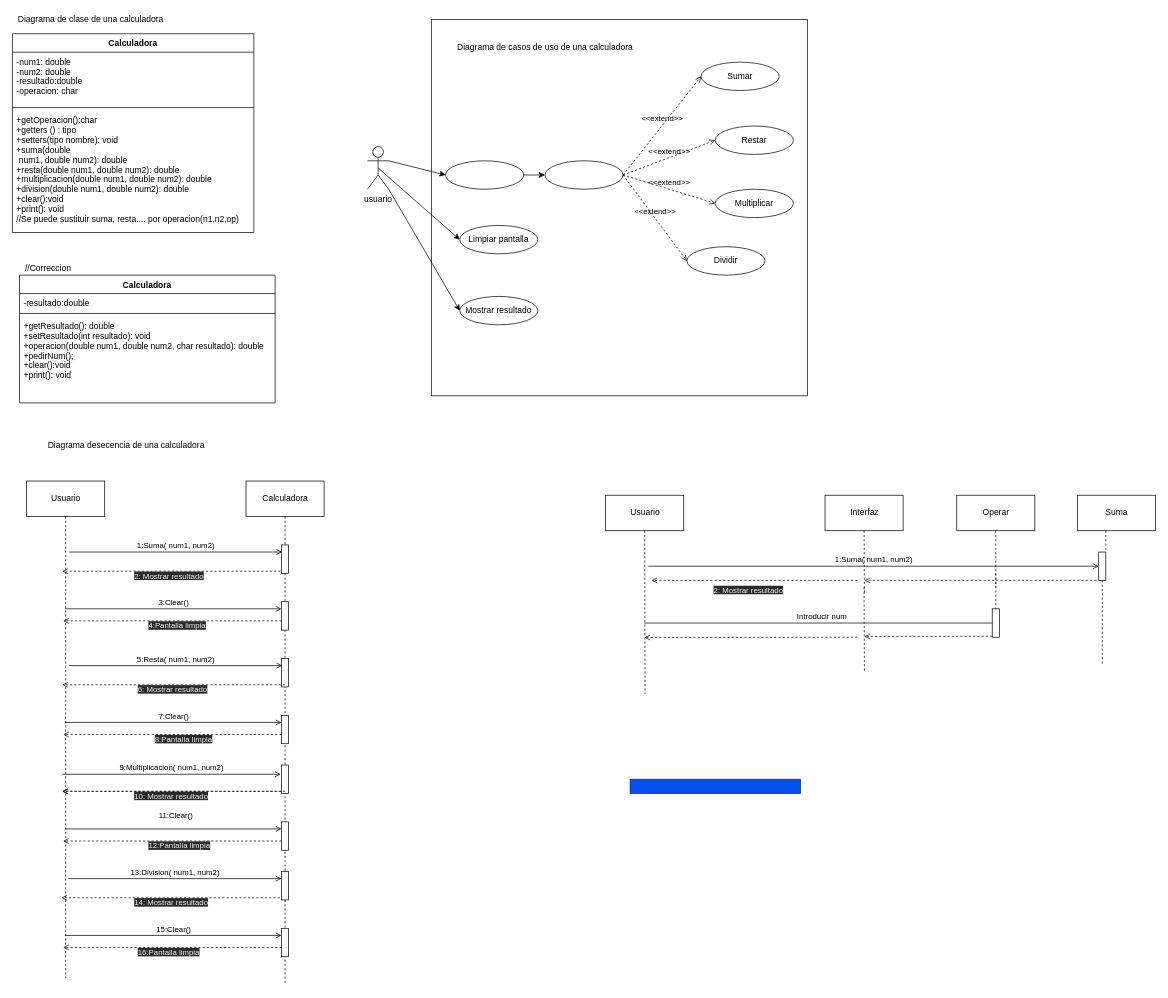
This 1168x998 diagram has some shape labels left out. The shapes that lost their labels are listed below. From the top down, each one's box as (x1, y1, x2, y2) in pixels, then its label:
(445, 160, 524, 189): Introducir numeros
(544, 160, 623, 189): Introducir operador
(629, 779, 801, 793): //Requisitos Funcionales y no funcionales
